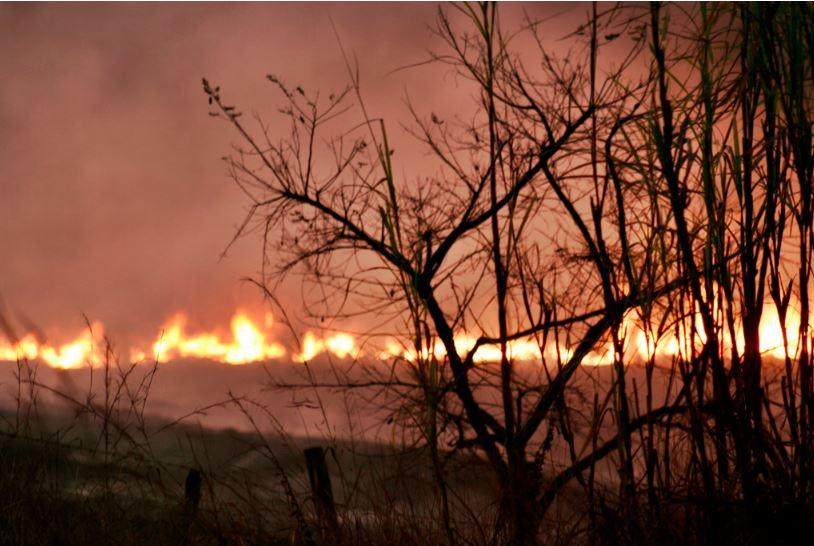Fire: (559, 294, 806, 363), (145, 315, 364, 362), (3, 316, 118, 373), (380, 335, 542, 362)
